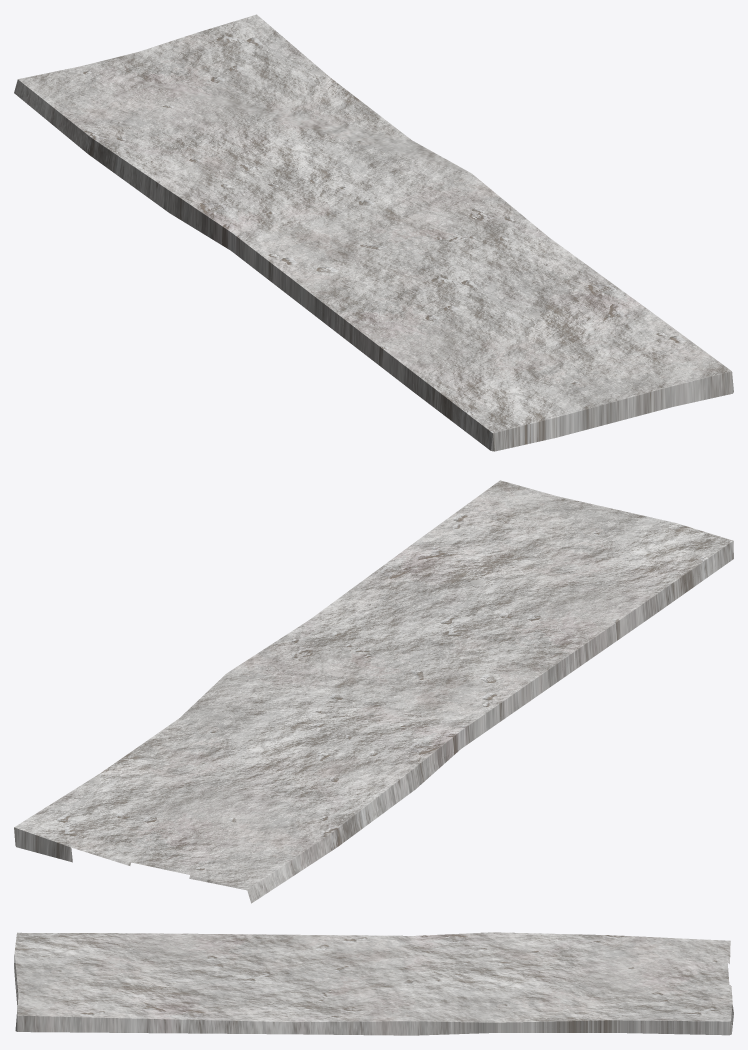
Rendered from tile3_LOD2.FBX.
3 renders of one model, top to bottom at view 1: azimuth 30°, elevation 25°; view 2: azimuth 150°, elevation 25°; view 3: azimuth 270°, elevation 25°, orthographic. The views are drawn at different scales.
Parts seen in each view (by area): view 1: tile3_LOD2; view 2: tile3_LOD2; view 3: tile3_LOD2.
Boxes of the visible parts, x1,y1,x2,y2 form: tile3_LOD2: (14,14,733,451); tile3_LOD2: (14,480,733,903); tile3_LOD2: (14,932,733,1035).
Bounding box in the file's own units: 51.31 × 4.18 × 173.
